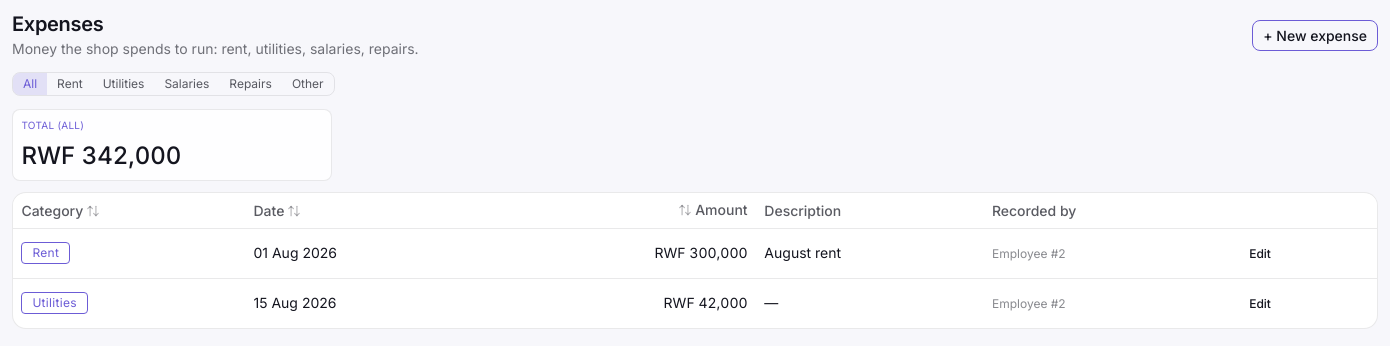
Scenario: ExpensesPageClient › filters by category and updates the total
Expected: the text "August rent" is shown, [756,228,984,278]
Click the radio button labelled "Rent". click: (70, 84)
box: [57,76,83,91]
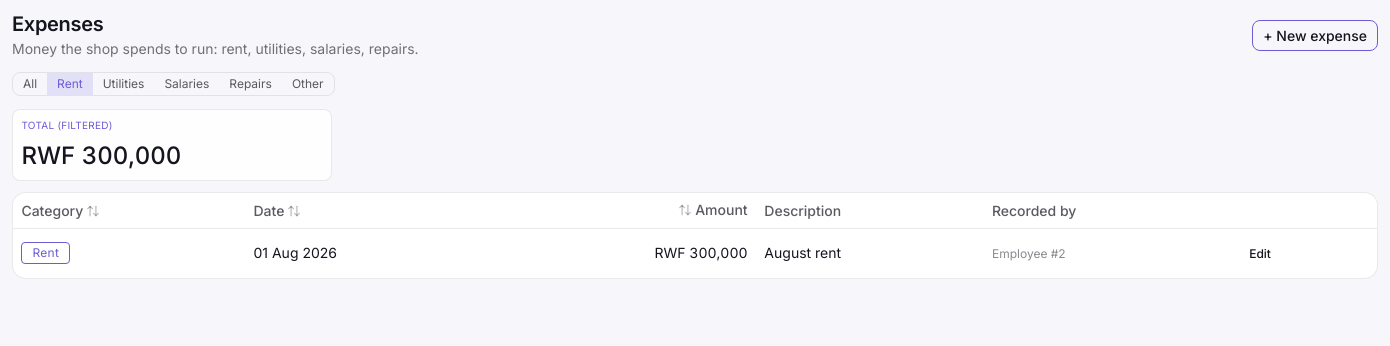
Expected: the text "RWF 300,000" is shown, [21,141,181,170]
